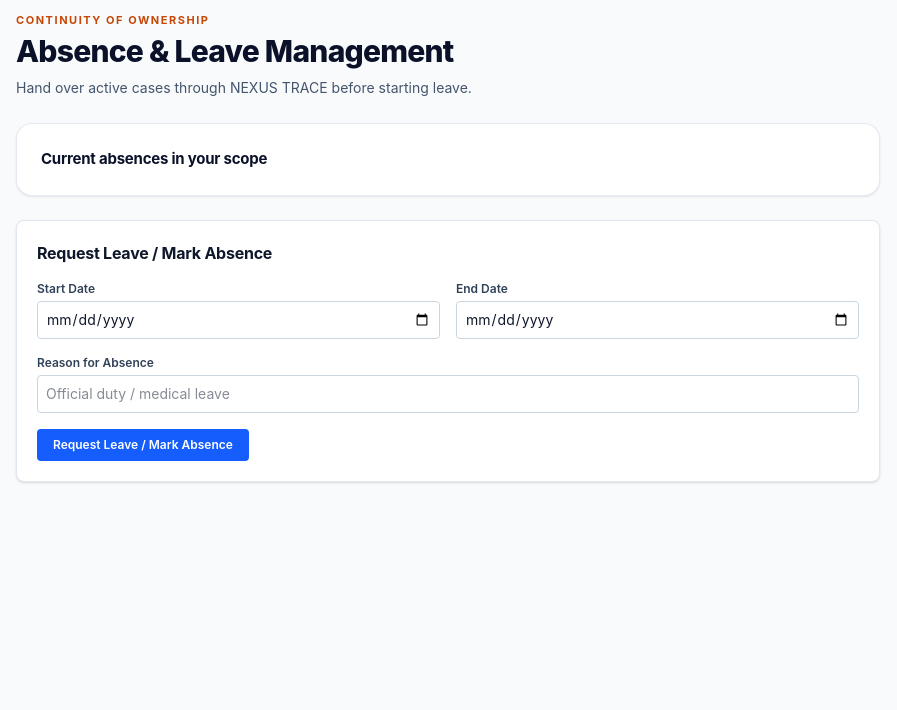
Test case: S3 Client UI Components (N20, N21, N54, N60, N70, N75, S17, S18, S24, U20-U23) › renders LeaveManagementPage with transfer handover blocker when active cases exist
The width and height of the screenshot is (897, 710).
Note: Fill form and submit
In the date field labelled "Start Date": (238,320) [37,301,440,339], type "2026-11-01"
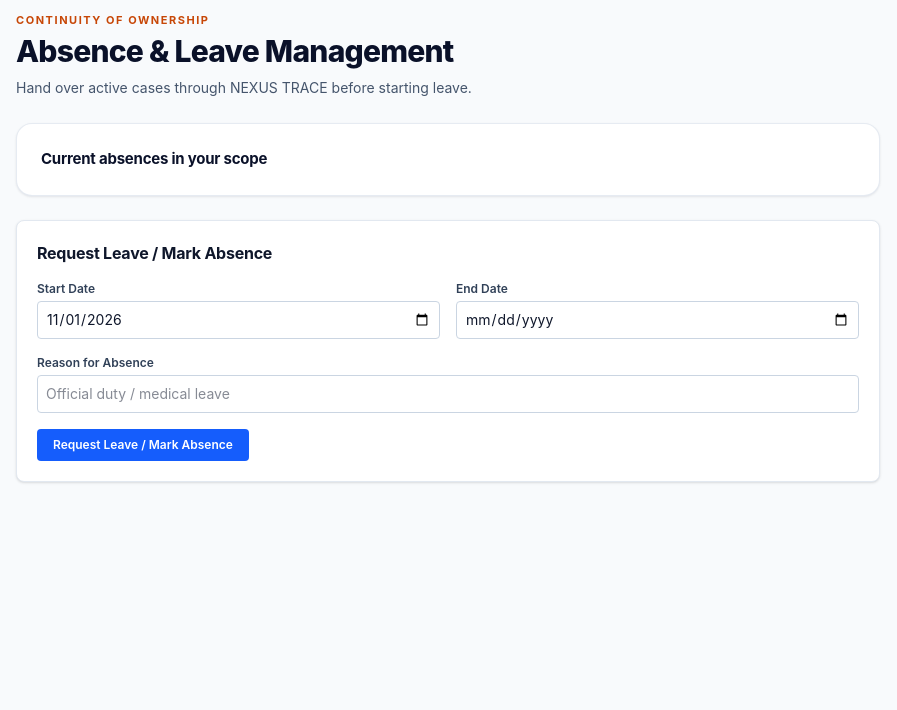
In the date field labelled "End Date": (658,320) [456,301,859,339], type "2026-11-05"
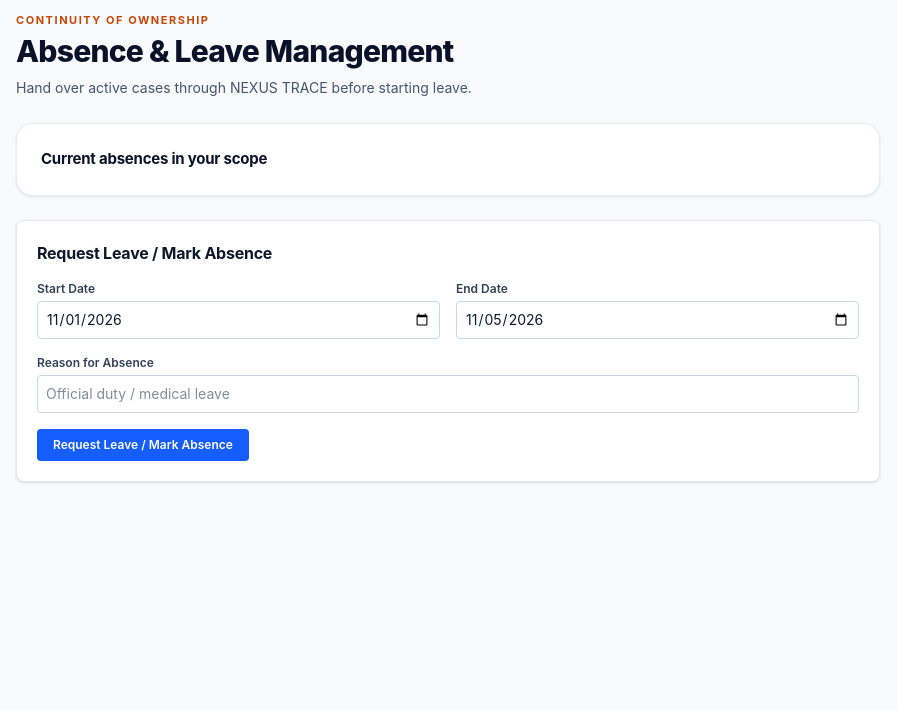
In the field labelled "Reason for Absence": (448,394) [37,375,859,413], type "Annual Leave"
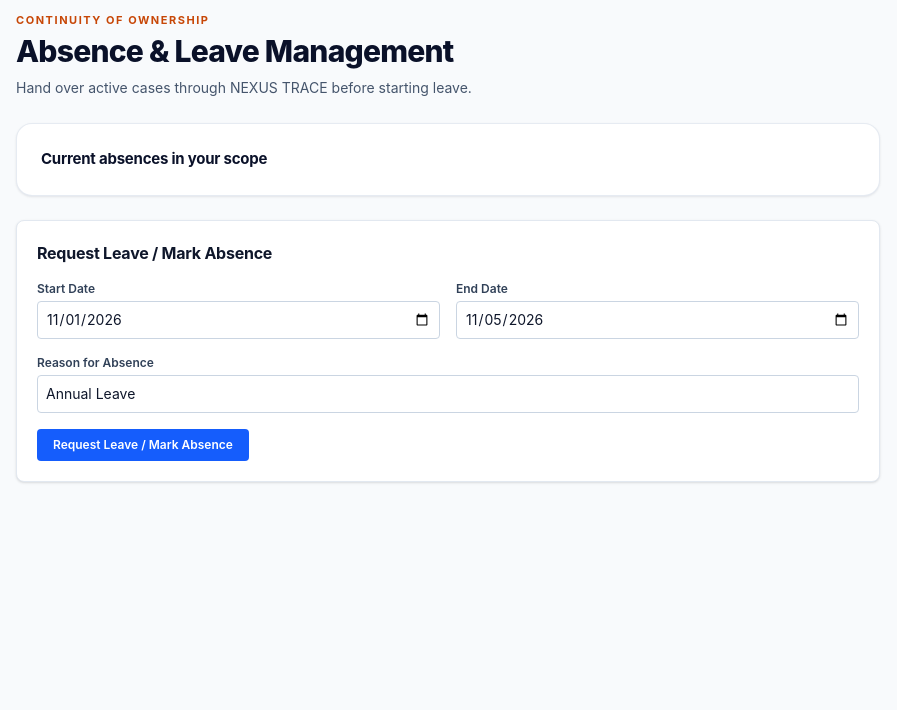
Click the button "Request Leave / Mark Absence": (143,445) [37,429,249,461]
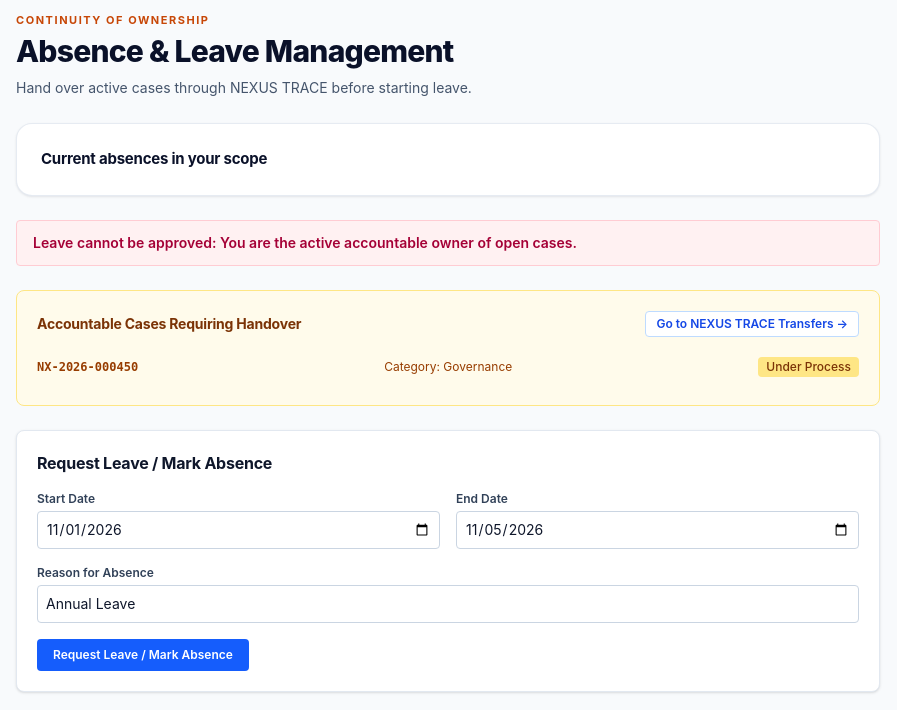
Check: the text "Leave cannot be approved" is shown, box [33,234,577,251]
Check: the text "NX-2026-000450" is shown, box [37,359,138,375]
Check: the link "Go to NEXUS TRACE Transfers →" is shown, box [645,311,859,337]
